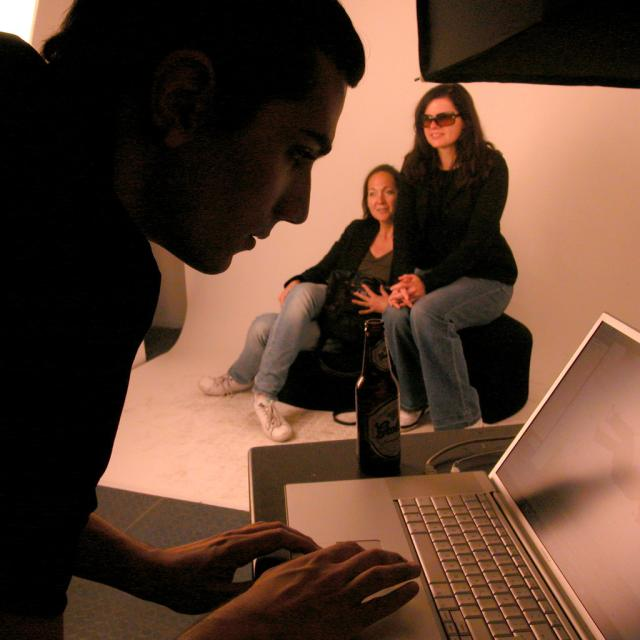keyboard-with-hands: (288, 472, 601, 640)
